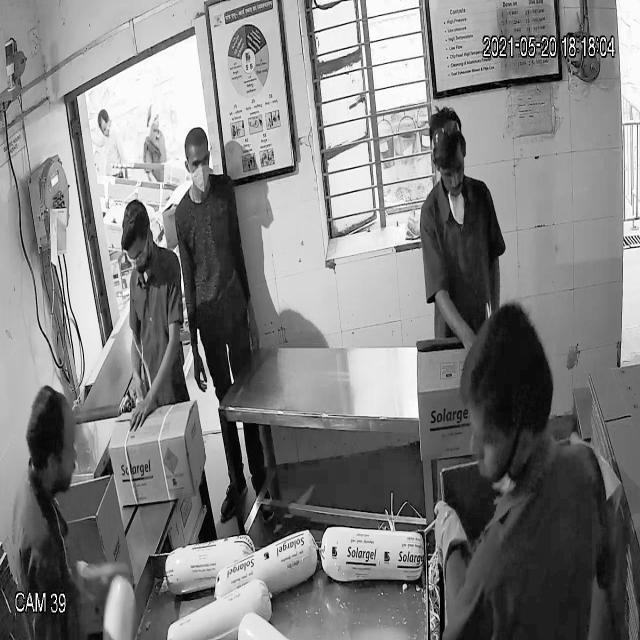glasses: (119, 242, 152, 268)
no-glass: (432, 154, 474, 181), (182, 152, 214, 177)
